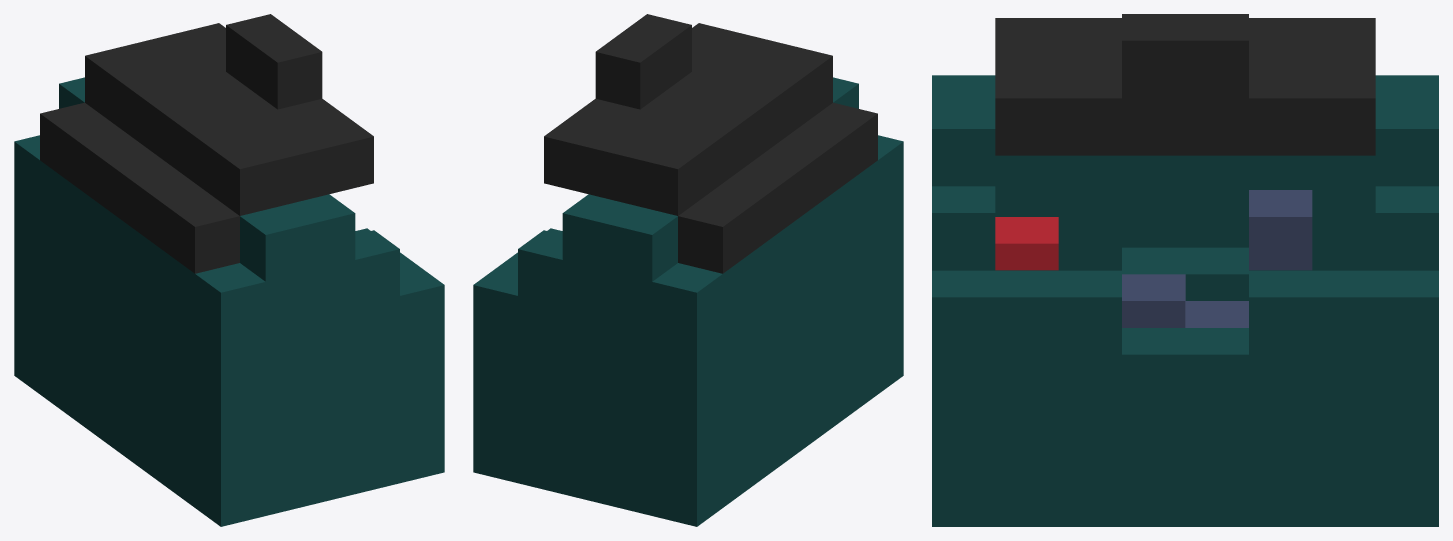
File: Bin0.obj
3 renders of one model, left to right at view 1: azimuth 30°, elevation 25°; view 2: azimuth 150°, elevation 25°; view 3: azimuth 270°, elevation 25°, orthographic. The views are drawn at different scales.
Bounding box in the file's own units: 0.5 × 0.8 × 0.8.
Materials: 1 (1 with a texture image).
